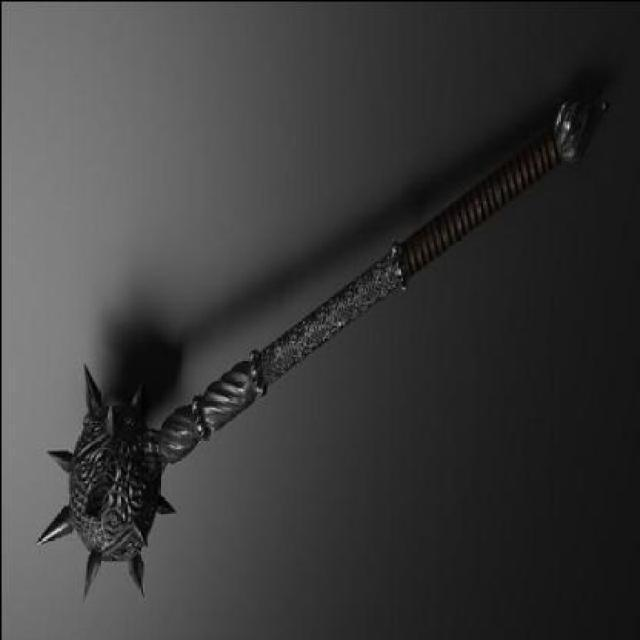weapon: (34, 89, 610, 600)
